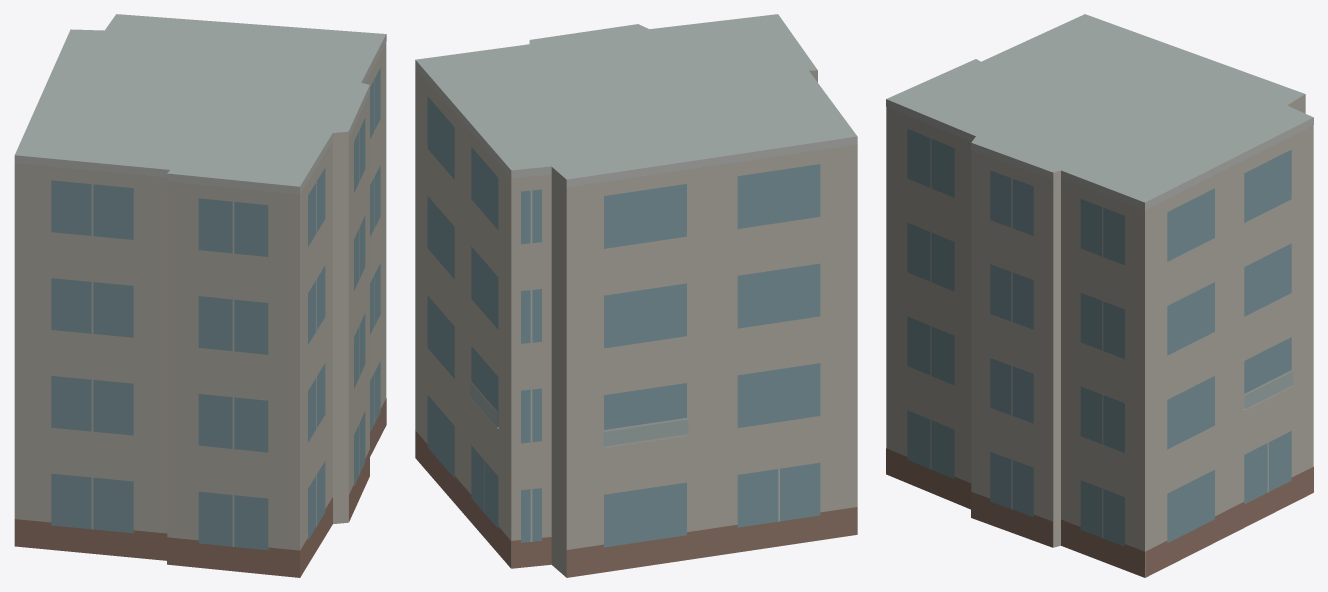
File: survey-upis-32598119.glb
The picture shows the model from 3 angles, left to right: view 1: azimuth 30°, elevation 25°; view 2: azimuth 150°, elevation 25°; view 3: azimuth 270°, elevation 25°; orthographic projection. The views are drawn at different scales.
Visible parts, largest first — view 1: survey-upis-32598119.tmp; view 2: survey-upis-32598119.tmp; view 3: survey-upis-32598119.tmp.
Boxes of the visible parts, x1,y1,x2,y2 form: survey-upis-32598119.tmp: (14,14,386,577); survey-upis-32598119.tmp: (415,14,857,577); survey-upis-32598119.tmp: (886,14,1313,577).
Bounding box in the file's own units: 13.16 × 12.2 × 12.61.
